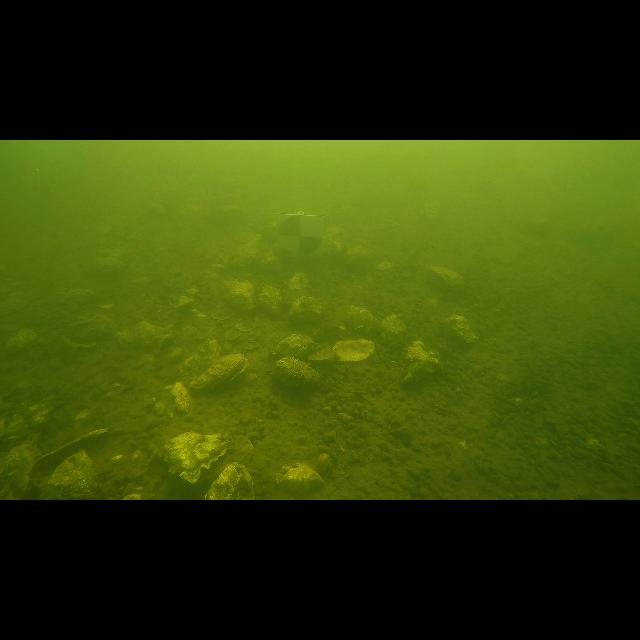Oyster-Closed: (165, 432, 232, 482), (47, 447, 100, 500), (0, 434, 41, 499), (190, 354, 249, 392), (205, 462, 255, 500), (115, 321, 172, 352), (404, 340, 441, 381), (69, 312, 116, 344), (271, 356, 320, 386), (276, 465, 324, 494), (182, 340, 218, 378), (272, 334, 318, 359), (428, 266, 464, 292), (90, 249, 126, 275), (289, 296, 322, 324), (445, 315, 478, 342), (346, 306, 380, 332), (225, 280, 254, 310), (59, 289, 96, 311), (381, 314, 406, 344), (285, 272, 310, 302), (6, 329, 38, 351), (259, 285, 282, 315), (235, 316, 259, 332), (169, 295, 194, 308)
Oyster-Open: (30, 427, 111, 474), (309, 339, 375, 361)
